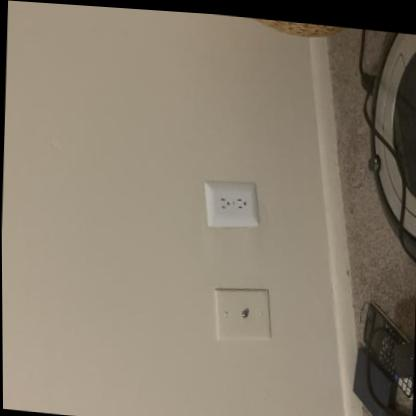OUTLET: (202, 179, 259, 229)
